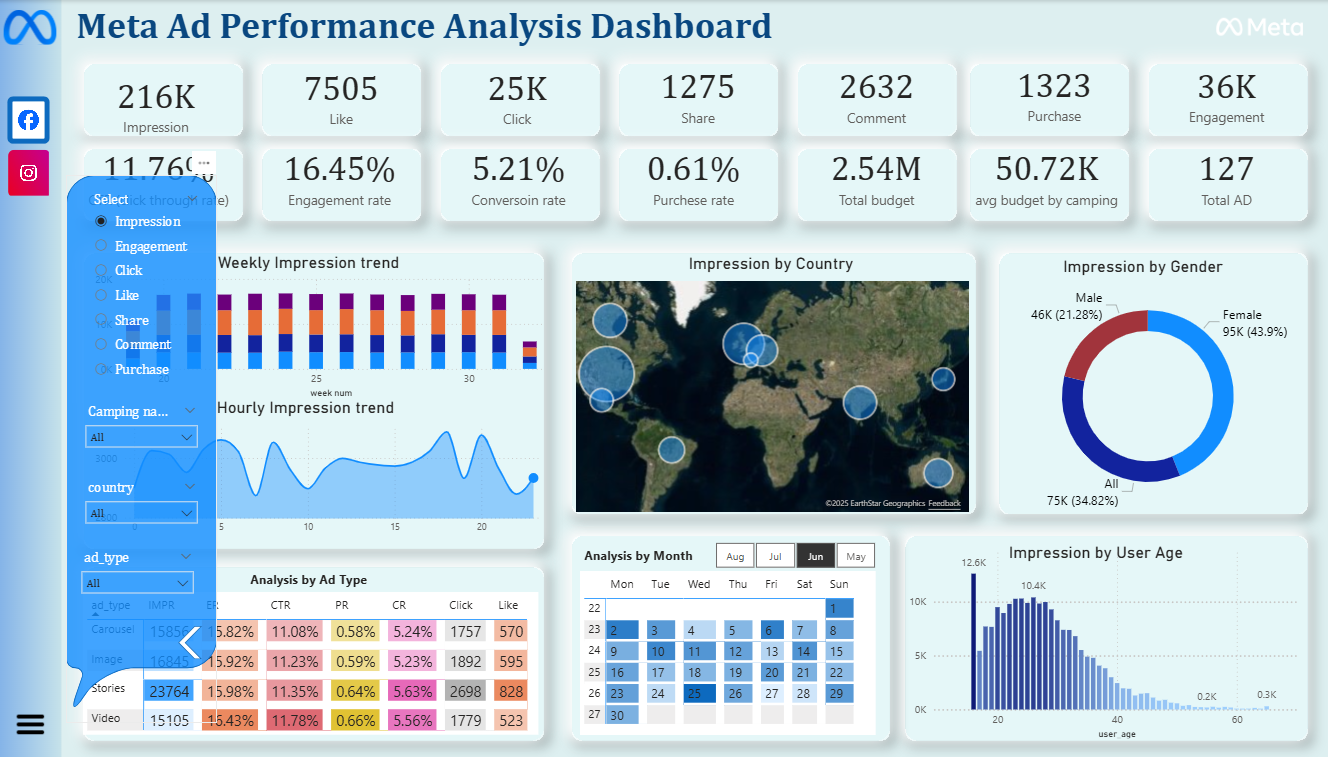

This screenshot's page, from the dashboard's own definition file:
{"tool":"powerbi","page":{"name":"Dashboard","canvas":[1570,899],"ordinal":0},"visuals":[{"type":"group","id":"g1","title":"Group 1","box":[90,-1,880.8,103.3],"z":0},{"type":"card","fields":{"Values":["_measure.Impression"]},"box":[89.7,78.3,197.5,85.1],"z":1000},{"type":"advancedSlicerVisual","fields":{"Values":["logo of platform.platform "]},"box":[8.8,108.2,60,129.4],"z":2000},{"type":"card","fields":{"Values":["_measure.Share"]},"box":[725.7,65.7,200,88.6],"z":3000},{"type":"card","fields":{"Values":["_measure.Like"]},"box":[312.2,69.2,188.4,85.1],"z":4000},{"type":"card","fields":{"Values":["_measure.Comment"]},"box":[939.9,62.4,191.8,95.3],"z":5000},{"type":"card","fields":{"Values":["_measure.Click"]},"box":[518.7,64.7,188.4,94.2],"z":6000},{"type":"textbox","box":[90,-1,880.8,103.3],"z":7000,"group":"g1"},{"type":"card","fields":{"Values":["_measure.Purchase"]},"box":[1157.6,61.3,174.8,94.2],"z":7000},{"type":"card","fields":{"Values":["_measure.Engagement"]},"box":[1351.9,62.4,191.8,94.2],"z":8000},{"type":"card","fields":{"Values":["_measure.CTR (click through rate)"]},"box":[95.3,163.5,191.8,86.3],"z":9000},{"type":"card","fields":{"Values":["_measure.Engagement rate"]},"box":[308.7,163.5,191.8,86.3],"z":10000},{"type":"card","fields":{"Values":["_measure.Conversoin rate"]},"box":[518.7,163.5,191.8,86.3],"z":11000},{"type":"card","fields":{"Values":["_measure.Purchese rate"]},"box":[725.3,163.5,191.8,86.3],"z":12000},{"type":"card","fields":{"Values":["_measure.total budget"]},"box":[939.9,163.5,191.8,86.3],"z":13000},{"type":"card","fields":{"Values":["_measure.avg budget by camping"]},"box":[1140.8,163.5,191.8,86.3],"z":14000},{"type":"card","fields":{"Values":["_measure.Total AD"]},"box":[1351.9,163.5,191.8,86.3],"z":15000},{"type":"donutChart","fields":{"Y":["_measure.Impression"],"Category":["ads.target_gender"]},"box":[1157.5,322.5,395,287.5],"z":16000},{"type":"card","fields":{"Values":["_measure.gender title"]},"box":[1174.8,291.7,350.7,44.3],"z":17000},{"type":"columnChart","fields":{"Y":["_measure.Impression"],"Category":["users.user_age"]},"box":[1070.4,637.9,473.3,236.1],"z":18000},{"type":"card","fields":{"Values":["_measure.age title"]},"box":[1119.2,632.3,350.7,35.2],"z":19000},{"type":"card","fields":{"Values":["_measure.map title"]},"box":[736.3,291.6,350.8,35.4],"z":21000},{"type":"pivotTable","fields":{"Rows":["Calender.week num"],"Columns":["Calender.Day name"],"Values":["Min(Calender.Day num)"]},"box":[687.9,671.6,347.7,193.1],"z":22000},{"type":"slicer","fields":{"Values":["Calender.month"]},"box":[821.8,632.3,237.2,43.1],"z":23000},{"type":"textbox","box":[687.9,637.9,139.6,30.6],"z":24000},{"type":"azureMap","fields":{"Size":["_measure.Impression"],"Category":["users.country"]},"box":[677.8,325.6,472.2,282.2],"z":25000},{"type":"columnChart","fields":{"Y":["_measure.Impression"],"Category":["Calender.week num"],"Series":["ads.ad_type"]},"box":[111.2,314.4,535.8,158.9],"z":26000},{"type":"card","fields":{"Values":["_measure.weekly title"]},"box":[191.8,290.6,351.9,35.2],"z":27000},{"type":"areaChart","fields":{"Y":["_measure.Impression"],"Category":["ad_events.event hour"]},"box":[111.2,488.1,535.8,149.8],"z":28000},{"type":"card","fields":{"Values":["_measure.Hourly title"]},"box":[188.4,460.9,351.9,35.2],"z":29000},{"type":"pivotTable","fields":{"Rows":["ads.ad_type"],"Values":["_measure.Impression","_measure.Engagement rate","_measure.CTR (click through rate)","_measure.Purchese rate","_measure.Conversoin rate","_measure.Click","_measure.Like"]},"box":[102.5,696.2,536.2,168.5],"z":30000},{"type":"textbox","box":[294.5,666.4,152.7,30],"z":31000},{"type":"image","box":[1431.4,12.5,112.4,36.3],"z":32000},{"type":"actionButton","box":[16.5,834.4,43.5,40],"z":34504},{"type":"actionButton","box":[201.9,736.8,40.7,39.2],"z":34505}]}

Visuals, with their boxes on the page's 1570x899 design canvas (x1, y1, x2, y2). These are canvas units, not pixel positions in the 1328x757 screenshot, which may show the page scaled, cropped or inside an application window:
"Group 1" group: [90, -1, 971, 102]
card - _measure.Impression: [90, 78, 287, 163]
advancedSlicerVisual - logo of platform.platform : [9, 108, 69, 238]
card - _measure.Share: [726, 66, 926, 154]
card - _measure.Like: [312, 69, 501, 154]
card - _measure.Comment: [940, 62, 1132, 158]
card - _measure.Click: [519, 65, 707, 159]
textbox: [90, -1, 971, 102]
card - _measure.Purchase: [1158, 61, 1332, 156]
card - _measure.Engagement: [1352, 62, 1544, 157]
card - _measure.CTR (click through rate): [95, 164, 287, 250]
card - _measure.Engagement rate: [309, 164, 500, 250]
card - _measure.Conversoin rate: [519, 164, 710, 250]
card - _measure.Purchese rate: [725, 164, 917, 250]
card - _measure.total budget: [940, 164, 1132, 250]
card - _measure.avg budget by camping: [1141, 164, 1333, 250]
card - _measure.Total AD: [1352, 164, 1544, 250]
donutChart - _measure.Impression x ads.target_gender: [1158, 322, 1552, 610]
card - _measure.gender title: [1175, 292, 1526, 336]
columnChart - _measure.Impression x users.user_age: [1070, 638, 1544, 874]
card - _measure.age title: [1119, 632, 1470, 668]
card - _measure.map title: [736, 292, 1087, 327]
pivotTable - Calender.week num x Calender.Day name: [688, 672, 1036, 865]
slicer - Calender.month: [822, 632, 1059, 675]
textbox: [688, 638, 828, 668]
azureMap - _measure.Impression x users.country: [678, 326, 1150, 608]
columnChart - _measure.Impression x Calender.week num: [111, 314, 647, 473]
card - _measure.weekly title: [192, 291, 544, 326]
areaChart - _measure.Impression x ad_events.event hour: [111, 488, 647, 638]
card - _measure.Hourly title: [188, 461, 540, 496]
pivotTable - ads.ad_type x _measure.Impression: [102, 696, 639, 865]
textbox: [294, 666, 447, 696]
image: [1431, 12, 1544, 49]
actionButton: [16, 834, 60, 874]
actionButton: [202, 737, 243, 776]
